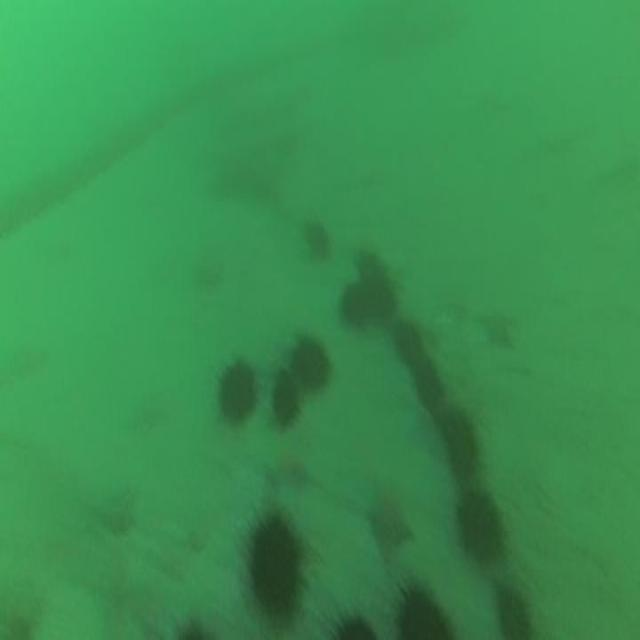echinus: (232, 504, 314, 629), (451, 476, 511, 570), (432, 395, 492, 487), (388, 570, 460, 637), (284, 322, 336, 400), (351, 240, 399, 322), (215, 348, 261, 428), (268, 358, 306, 434), (322, 594, 380, 640), (492, 581, 536, 640), (334, 275, 372, 340), (392, 314, 427, 380), (412, 351, 454, 404)
starfish: (364, 484, 418, 564), (264, 446, 317, 499), (407, 404, 443, 460)
